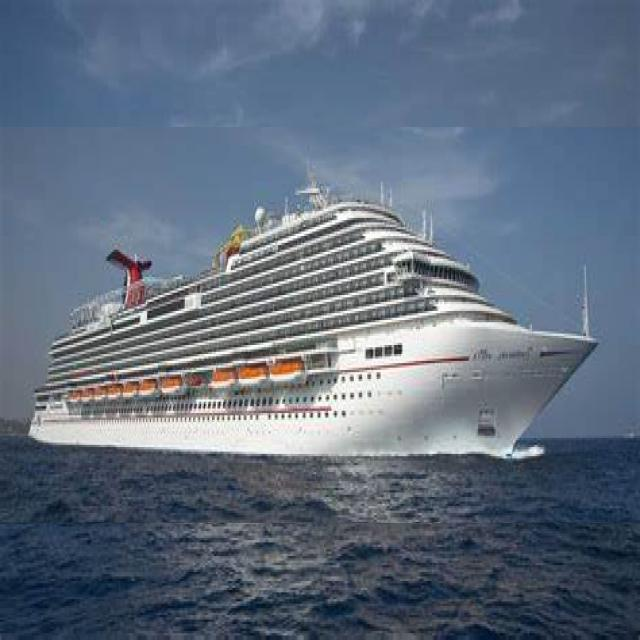PassengerShip: (0, 127, 640, 523)
